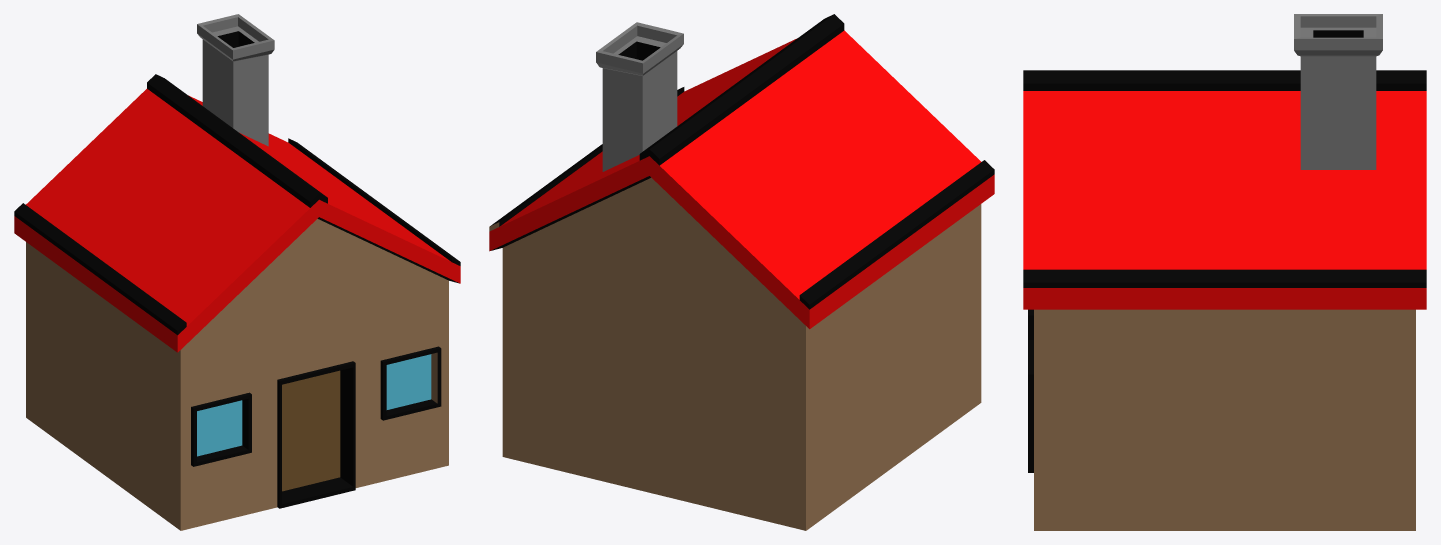
File: village.fbx
3 renders of one model, left to right at view 1: azimuth 30°, elevation 25°; view 2: azimuth 150°, elevation 25°; view 3: azimuth 270°, elevation 25°, orthographic. The views are drawn at different scales.
Visible parts, largest first — view 1: House; view 2: House; view 3: House.
Part boxes in pixels (box(x1,y1,x2,y2)): House: box(14, 14, 460, 530); House: box(489, 14, 994, 530); House: box(1023, 14, 1426, 530).
Bounding box in the file's own units: 154 × 190 × 154.
